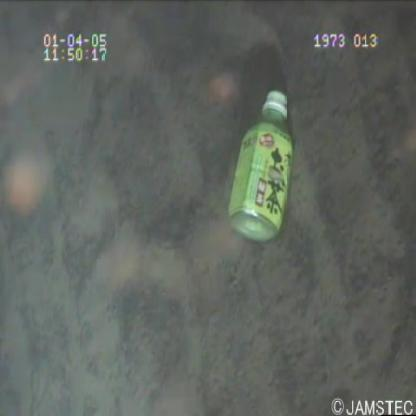Rác: (222, 73, 295, 270)
